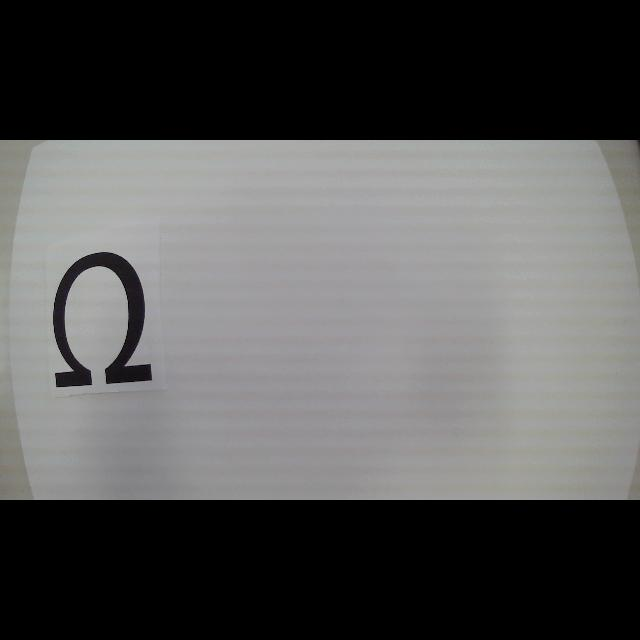OMEGA: (54, 252, 152, 388)
